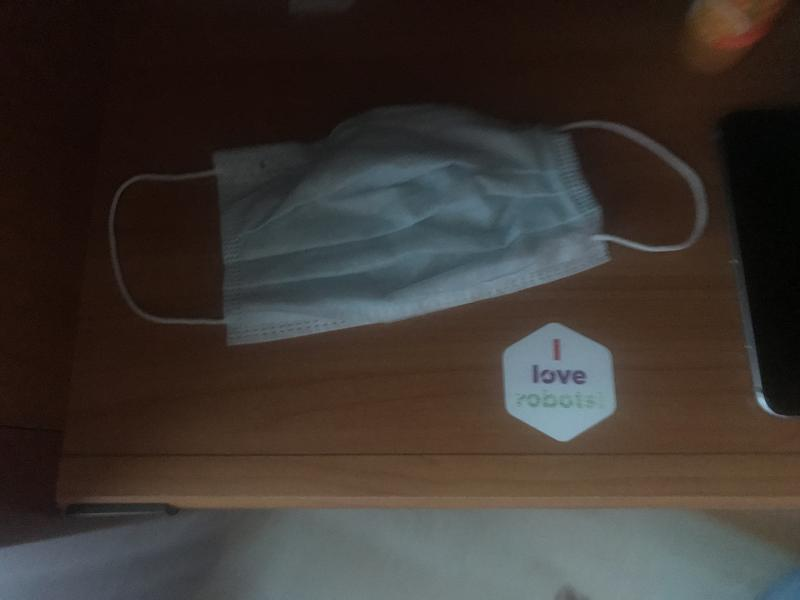medical_mask: (107, 108, 706, 327)
